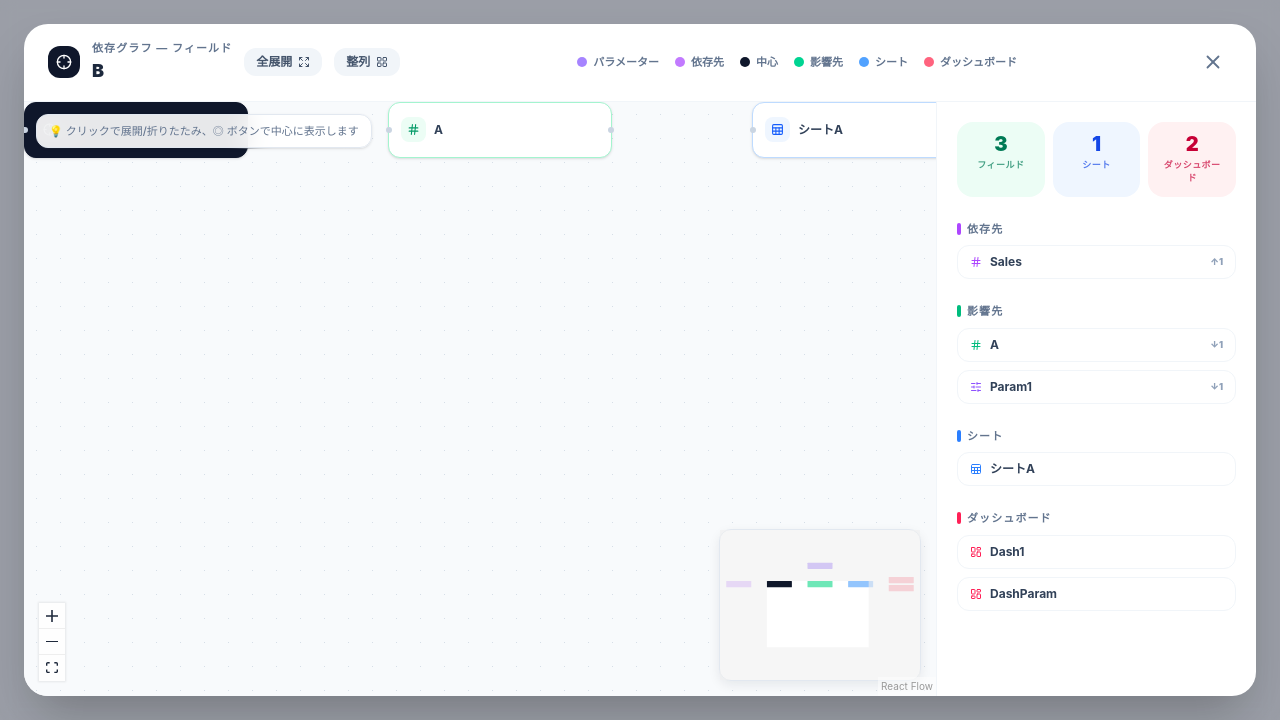
ImpactGraphModal ノード操作 › サマリパネルの行クリックで中心が切り替わること
The width and height of the screenshot is (1280, 720).
Click the button "Sales ↑1" at (1006, 262), box [957,245,1236,279]
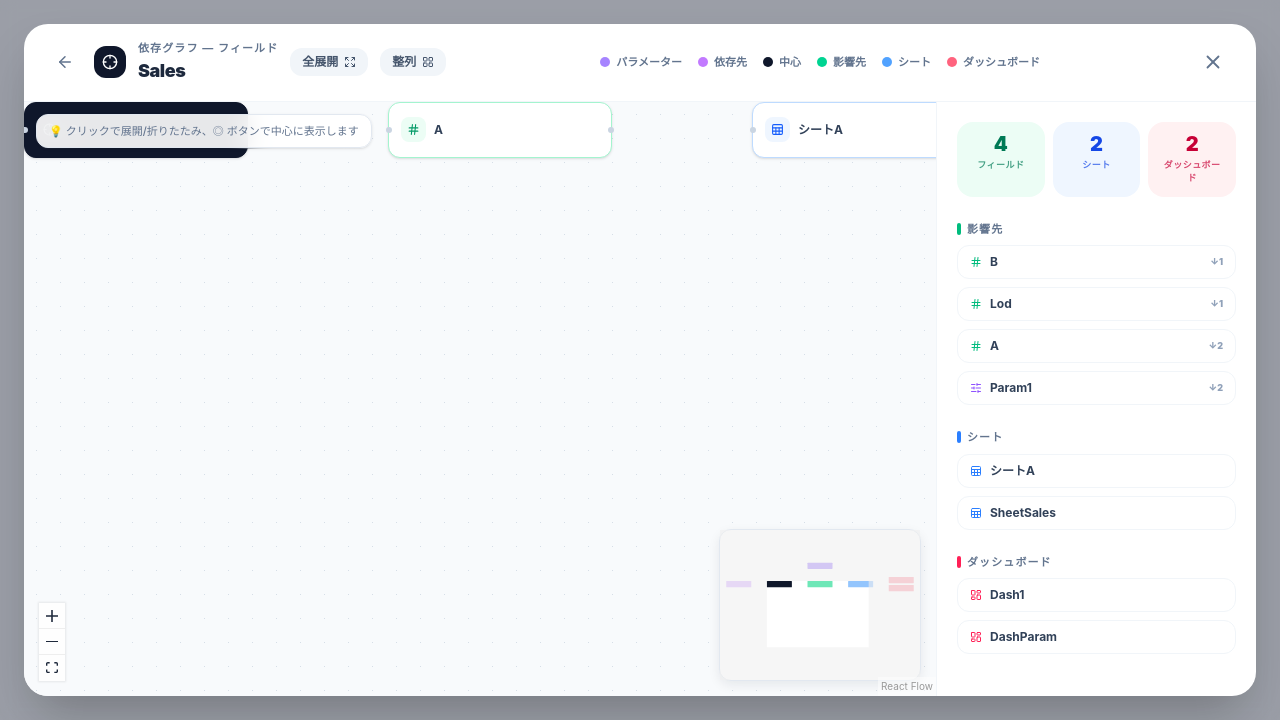
Result: the heading "Sales" is shown at [138,60,185,80]
